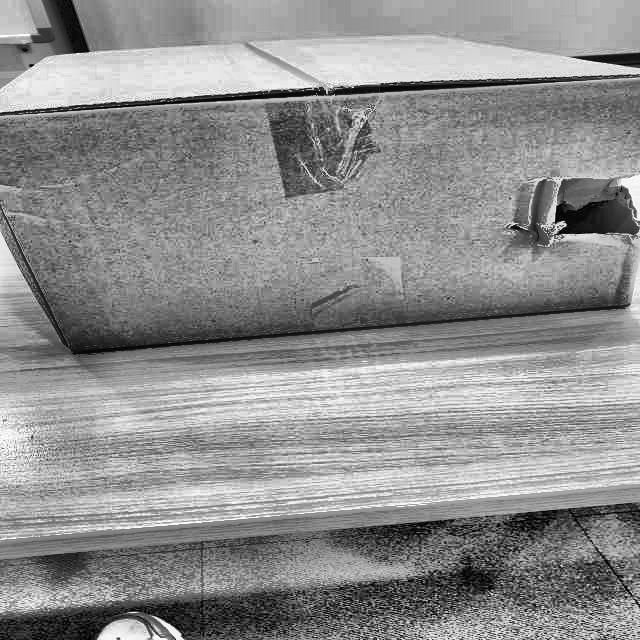box: (0, 24, 639, 361)
hole: (534, 164, 640, 242)
